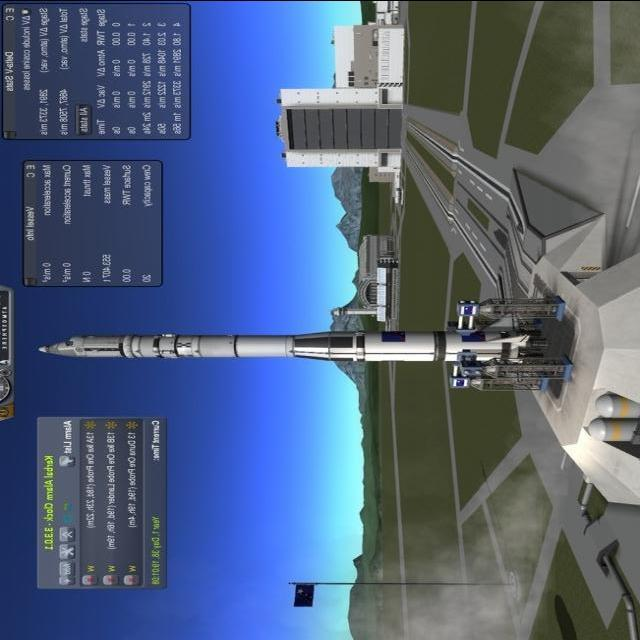missile: (29, 320, 547, 370)
